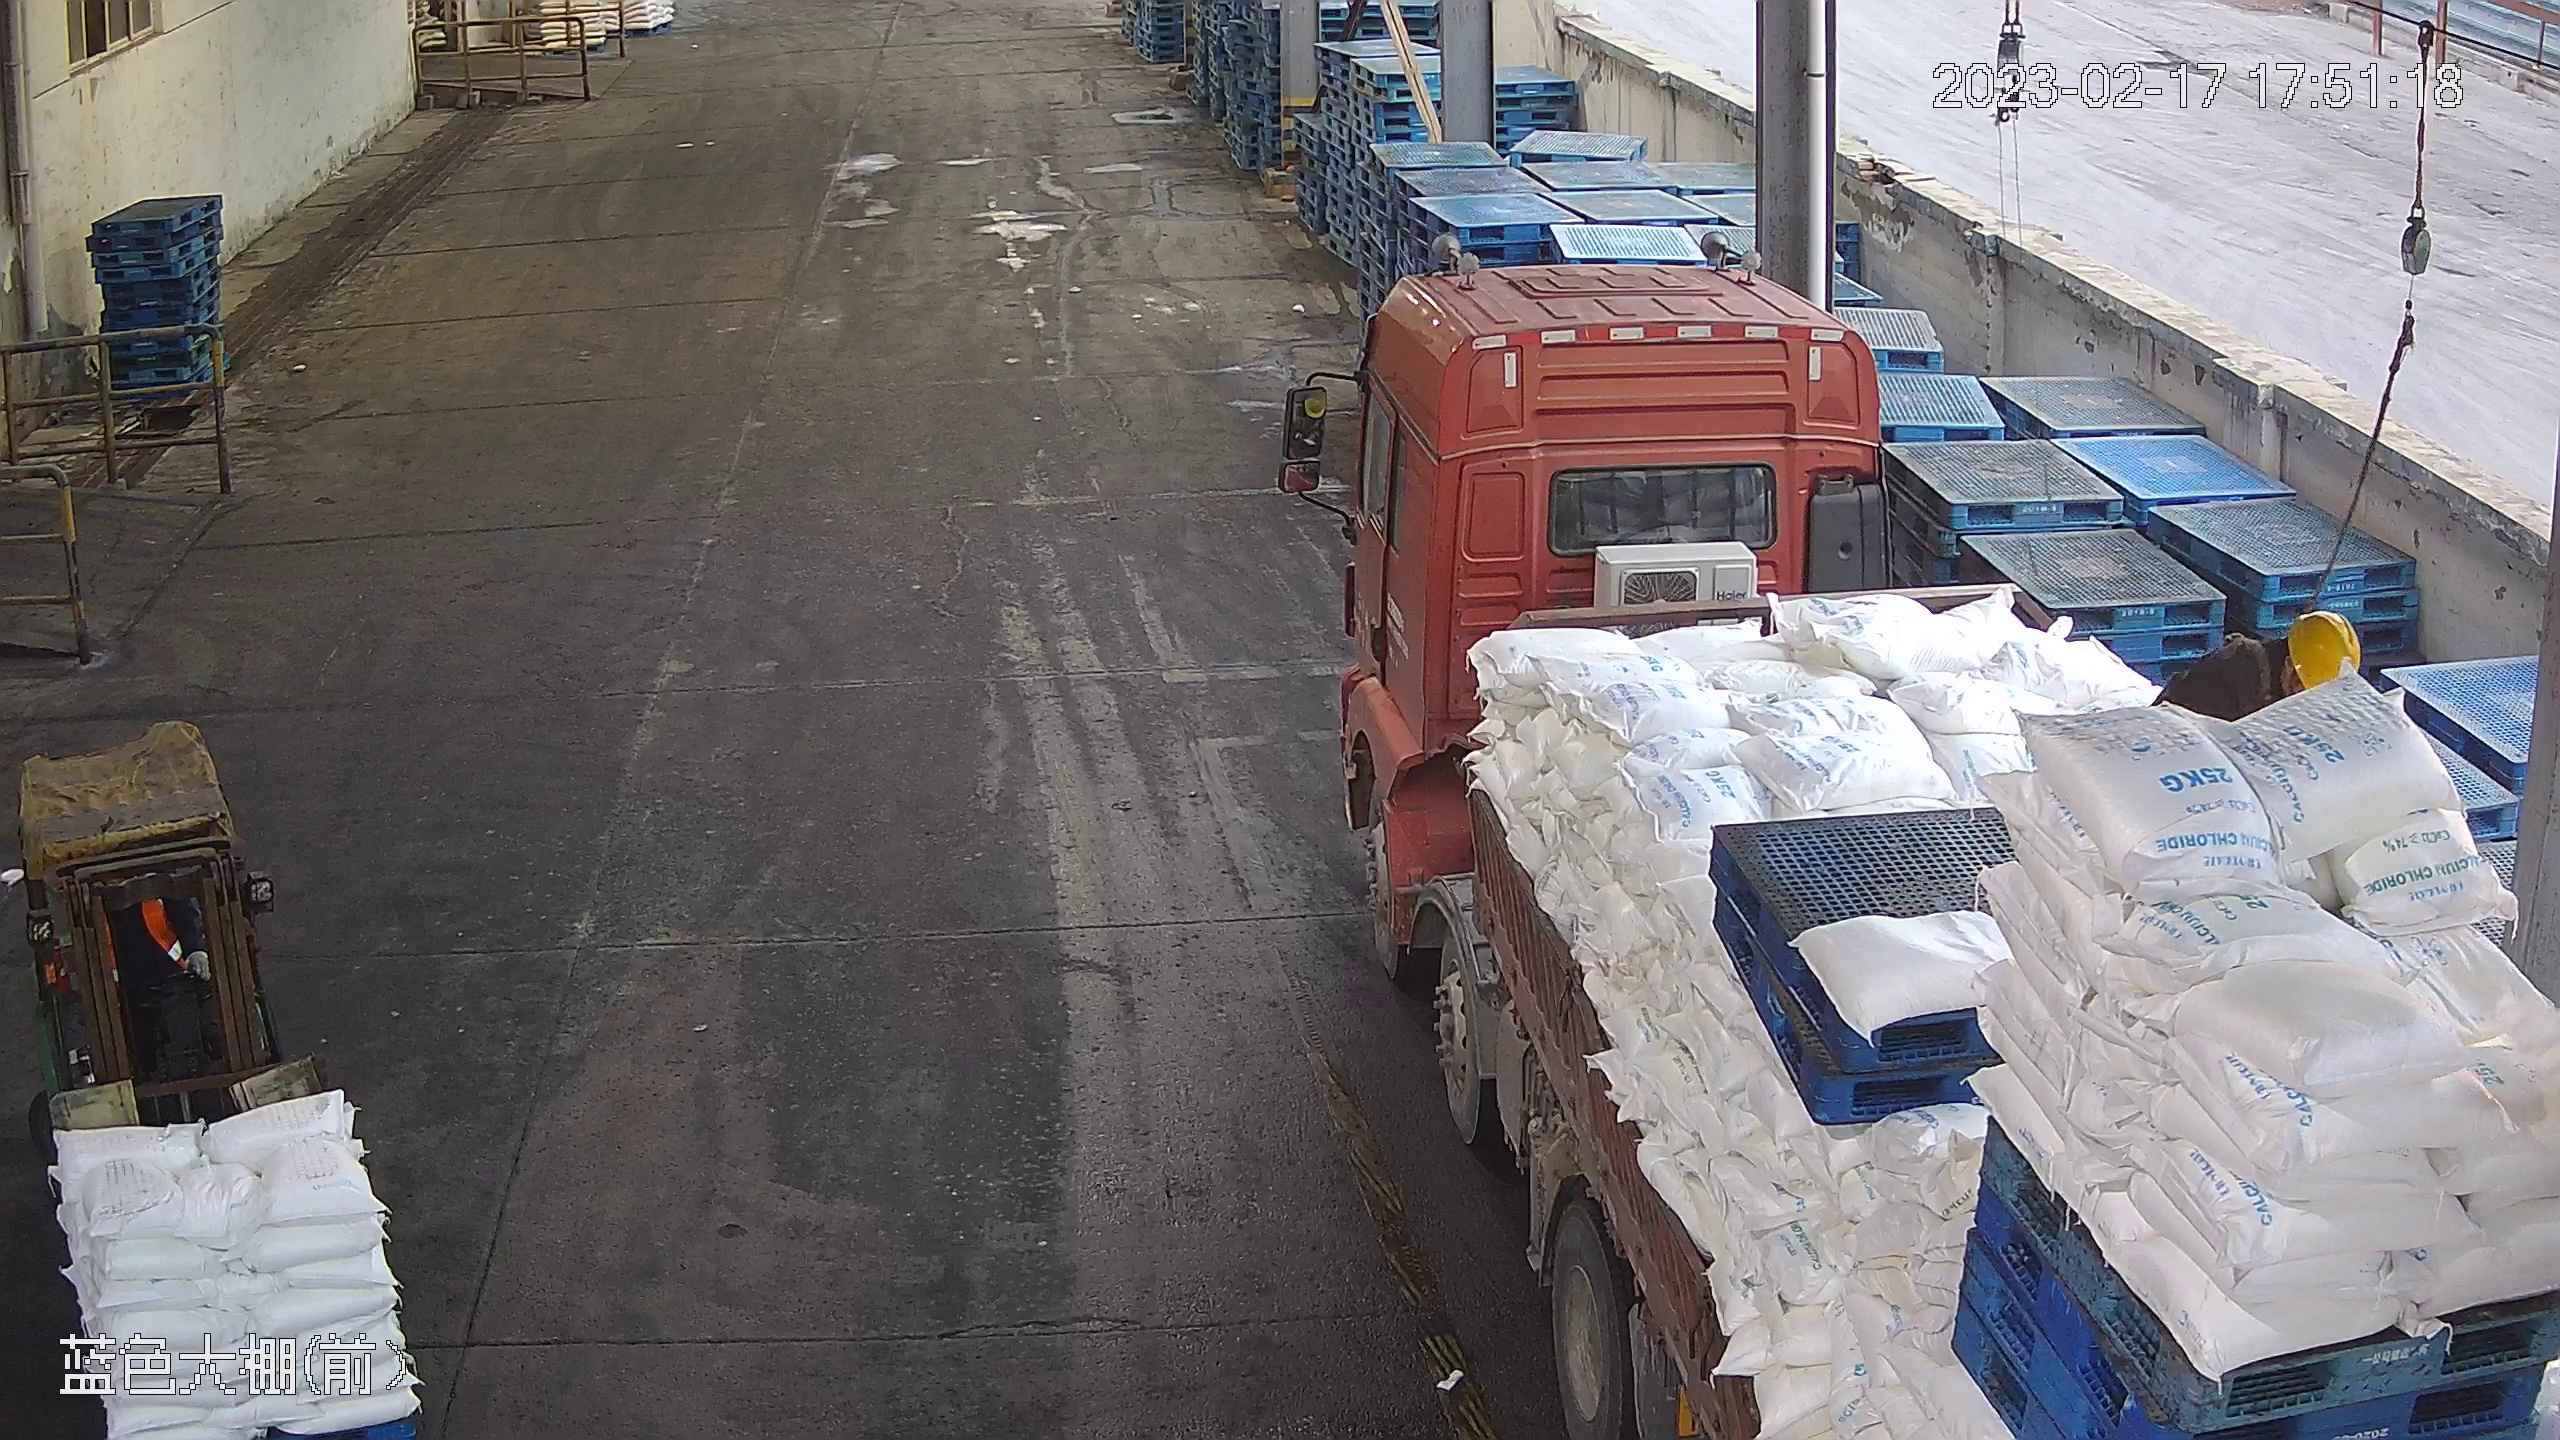belt: (2221, 619, 2283, 708)
head: (2197, 609, 2361, 710)
helmet: (2288, 608, 2364, 689)
truck: (1275, 233, 2560, 1440)
